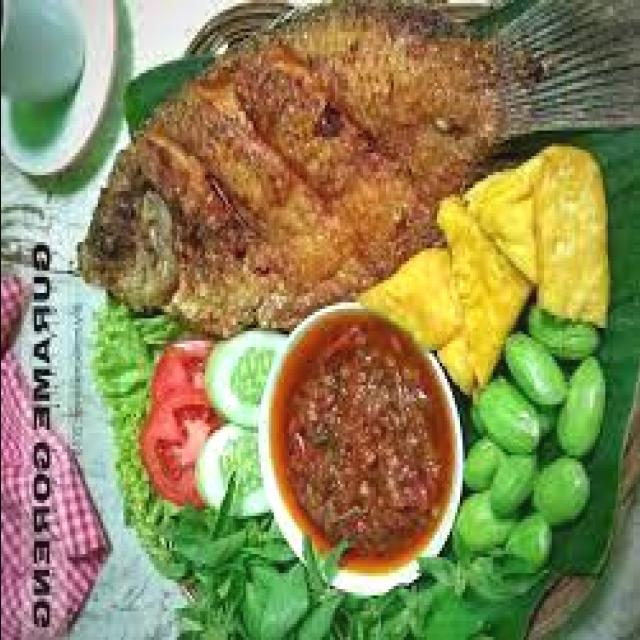ikan goreng: (76, 0, 640, 350)
